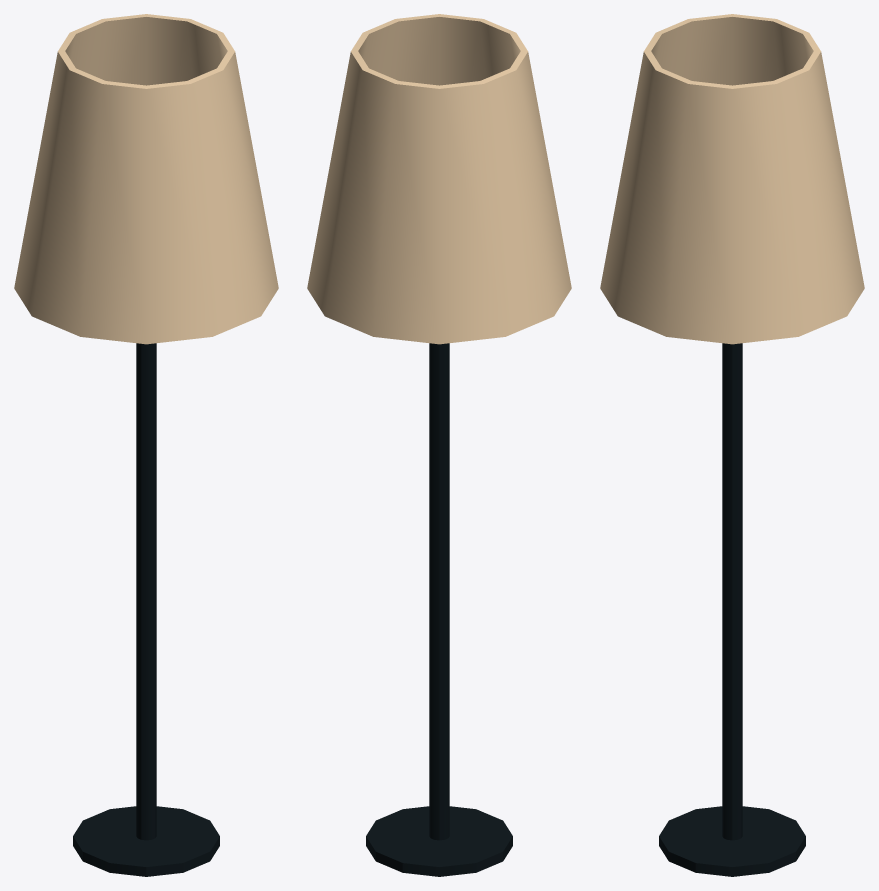
Rendered from Lamp.fbx.
3 renders of one model, left to right at view 1: azimuth 30°, elevation 25°; view 2: azimuth 150°, elevation 25°; view 3: azimuth 270°, elevation 25°, orthographic.
Parts seen in each view (by area): view 1: Lamp; view 2: Lamp; view 3: Lamp.
Boxes of the visible parts, x1,y1,x2,y2 form: Lamp: (14,14,278,876); Lamp: (307,14,571,876); Lamp: (600,14,864,876).
Bounding box in the file's own units: 161 × 533 × 161.
